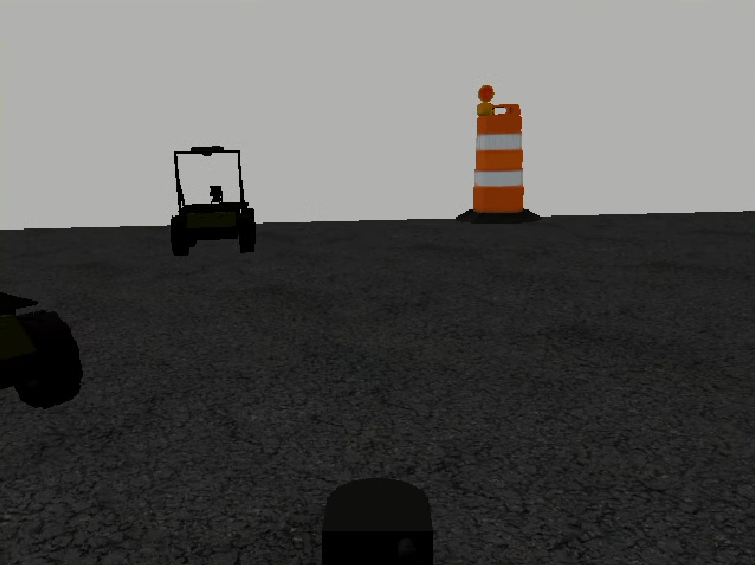husky: (1, 291, 83, 409), (170, 202, 257, 256)
